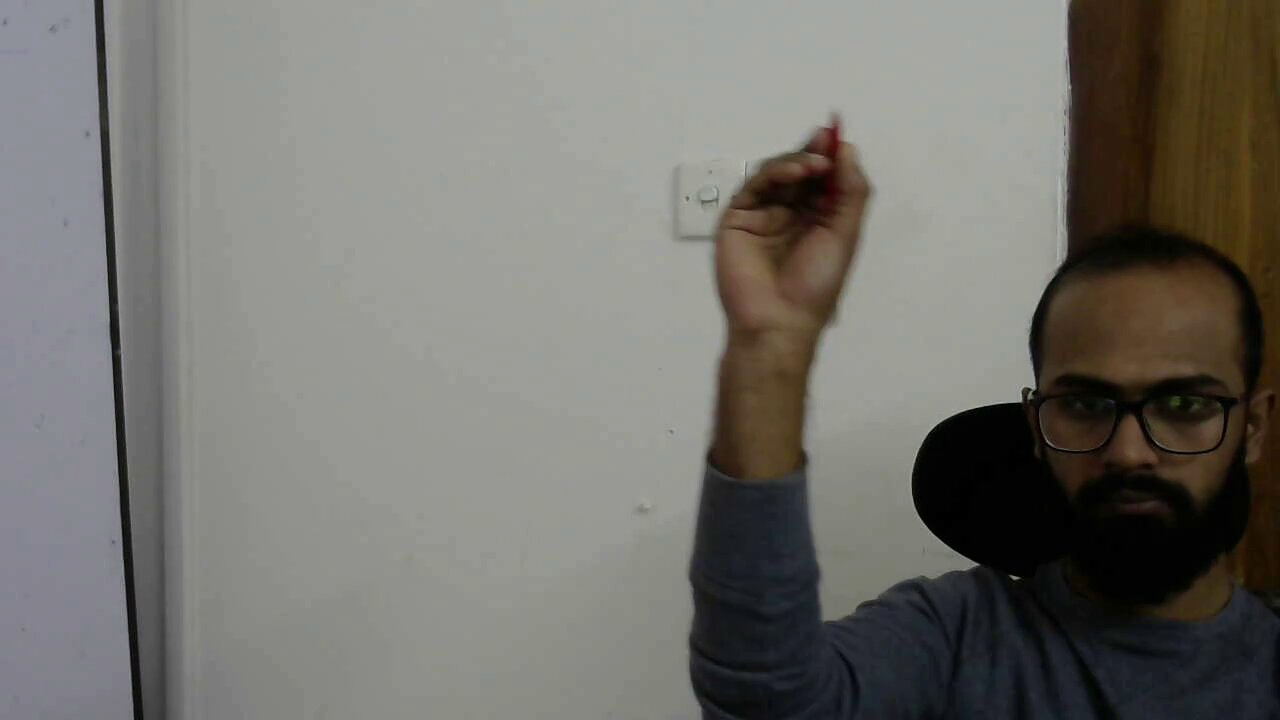pointer: (724, 118, 874, 243)
